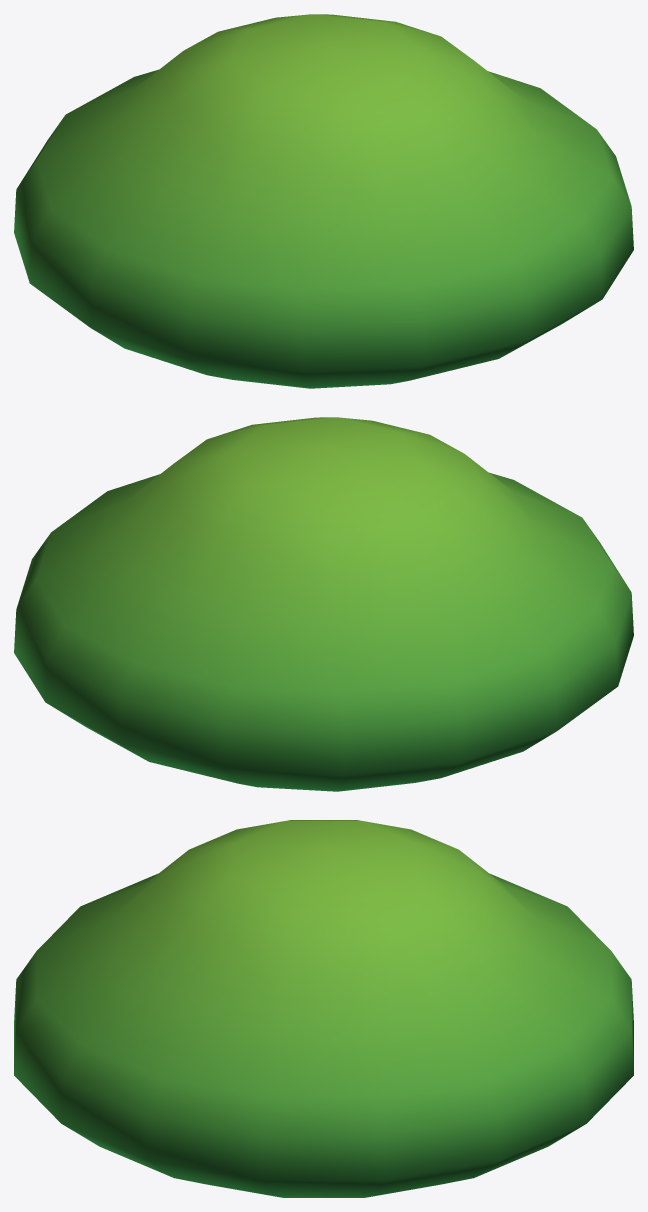
The model's file is Bush_3_B_Color1.glb.
3 views of the same model, one above another, from view 1: azimuth 30°, elevation 25°; view 2: azimuth 150°, elevation 25°; view 3: azimuth 270°, elevation 25° (orthographic).
Visible parts, largest first — view 1: Bush_3_B_Color1; view 2: Bush_3_B_Color1; view 3: Bush_3_B_Color1.
Part boxes in pixels (<box>): Bush_3_B_Color1: <box>14,14,633,388</box>; Bush_3_B_Color1: <box>14,417,633,791</box>; Bush_3_B_Color1: <box>14,820,633,1197</box>.
Bounding box in the file's own units: 1.68 × 0.8035 × 1.68.
Materials: 1 (1 with a texture image).
